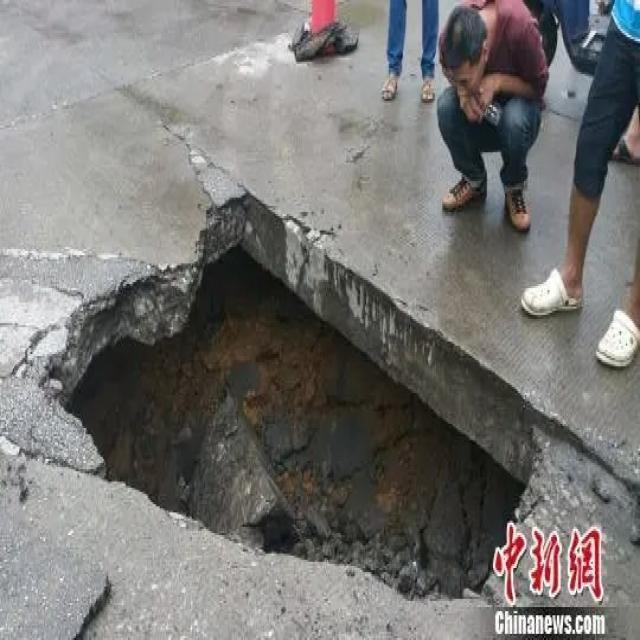Buraco: (35, 188, 546, 606)
